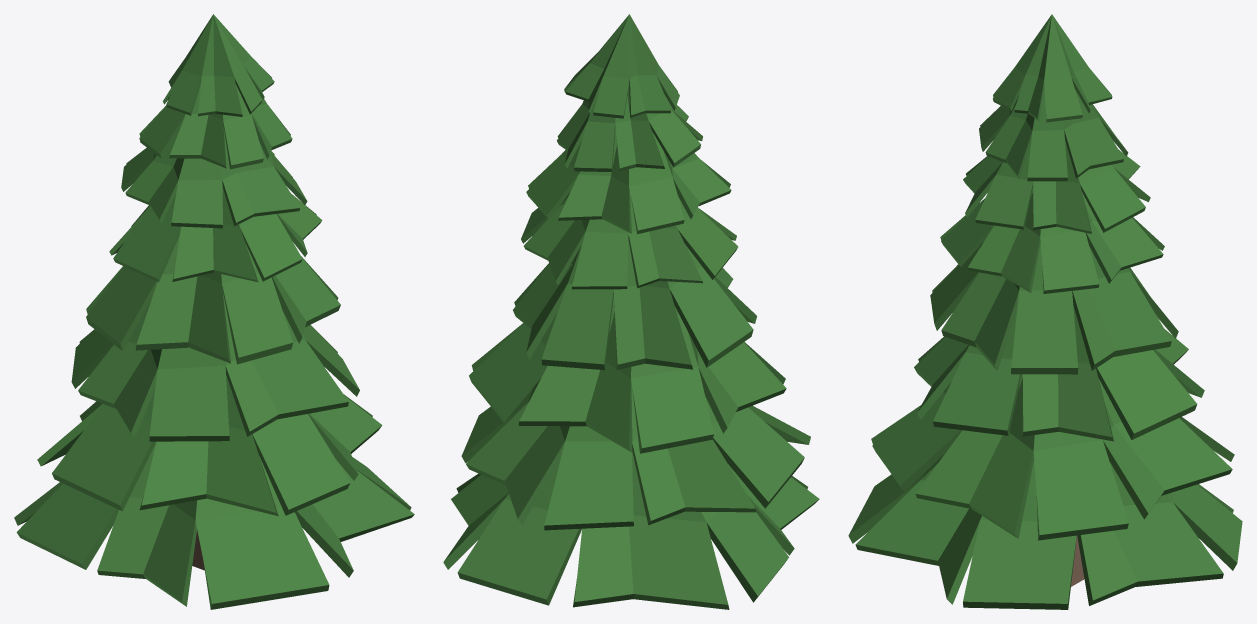
File: spruce_2.obj
The picture shows the model from 3 angles, left to right: view 1: azimuth 30°, elevation 25°; view 2: azimuth 150°, elevation 25°; view 3: azimuth 270°, elevation 25°; orthographic projection. The views are drawn at different scales.
Parts seen in each view (by area): view 1: spruce_2_Cylinder.002; view 2: spruce_2_Cylinder.002; view 3: spruce_2_Cylinder.002.
Boxes of the visible parts, x1,y1,x2,y2 form: spruce_2_Cylinder.002: (14, 14, 414, 609); spruce_2_Cylinder.002: (443, 14, 819, 609); spruce_2_Cylinder.002: (848, 14, 1242, 609).
Size of the model in its own units: 5.33 by 8.59 by 5.51.
Materials: 1 (1 with a texture image).
